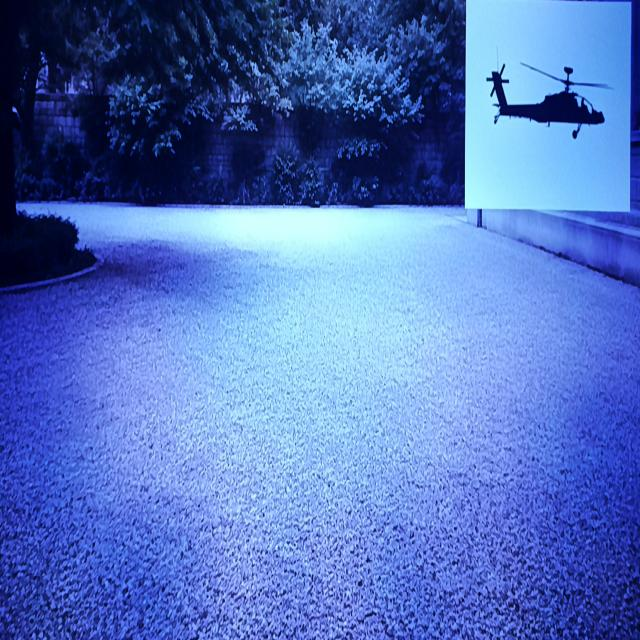Apache friendly: (487, 63, 611, 139)
